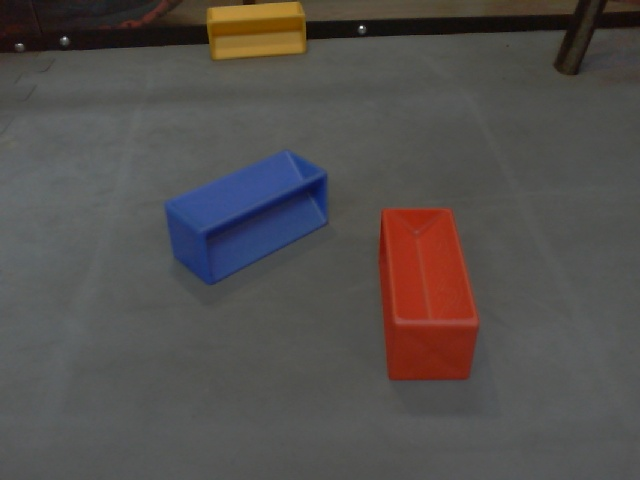BlueSample: (164, 145, 330, 285)
RedSample: (377, 207, 479, 383)
YellowSample: (204, 1, 308, 63)
